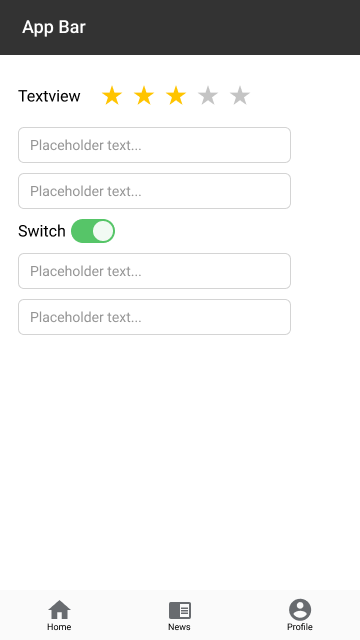editText: (16, 295, 293, 339), (16, 125, 293, 166), (18, 252, 291, 292), (17, 172, 292, 211)
navigationButton: (2, 591, 359, 639)
ratingBar: (100, 83, 253, 108)
switch: (18, 217, 115, 246)
textView: (18, 87, 82, 106)
toolbar: (2, 1, 360, 56)
